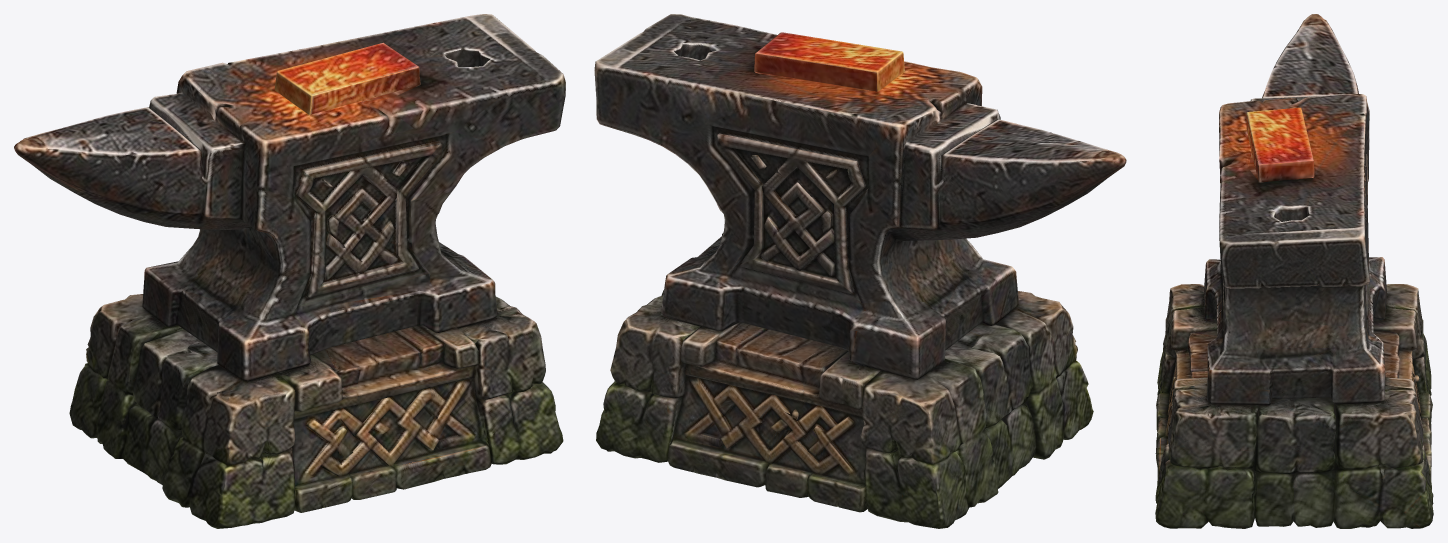
Rendered from anvil.glb.
3 views of the same model, side by side, from view 1: azimuth 30°, elevation 25°; view 2: azimuth 150°, elevation 25°; view 3: azimuth 270°, elevation 25° (orthographic). The views are drawn at different scales.
Parts seen in each view (by area): view 1: Mesh_0; view 2: Mesh_0; view 3: Mesh_0.
Boxes of the visible parts, left/top/right/bottom form: Mesh_0: left=14, top=14, right=565, bottom=528; Mesh_0: left=594, top=14, right=1126, bottom=528; Mesh_0: left=1155, top=14, right=1433, bottom=528.
Size of the model in its own units: 0.957 by 0.6777 by 0.5151.
1 material, 1 textured.
